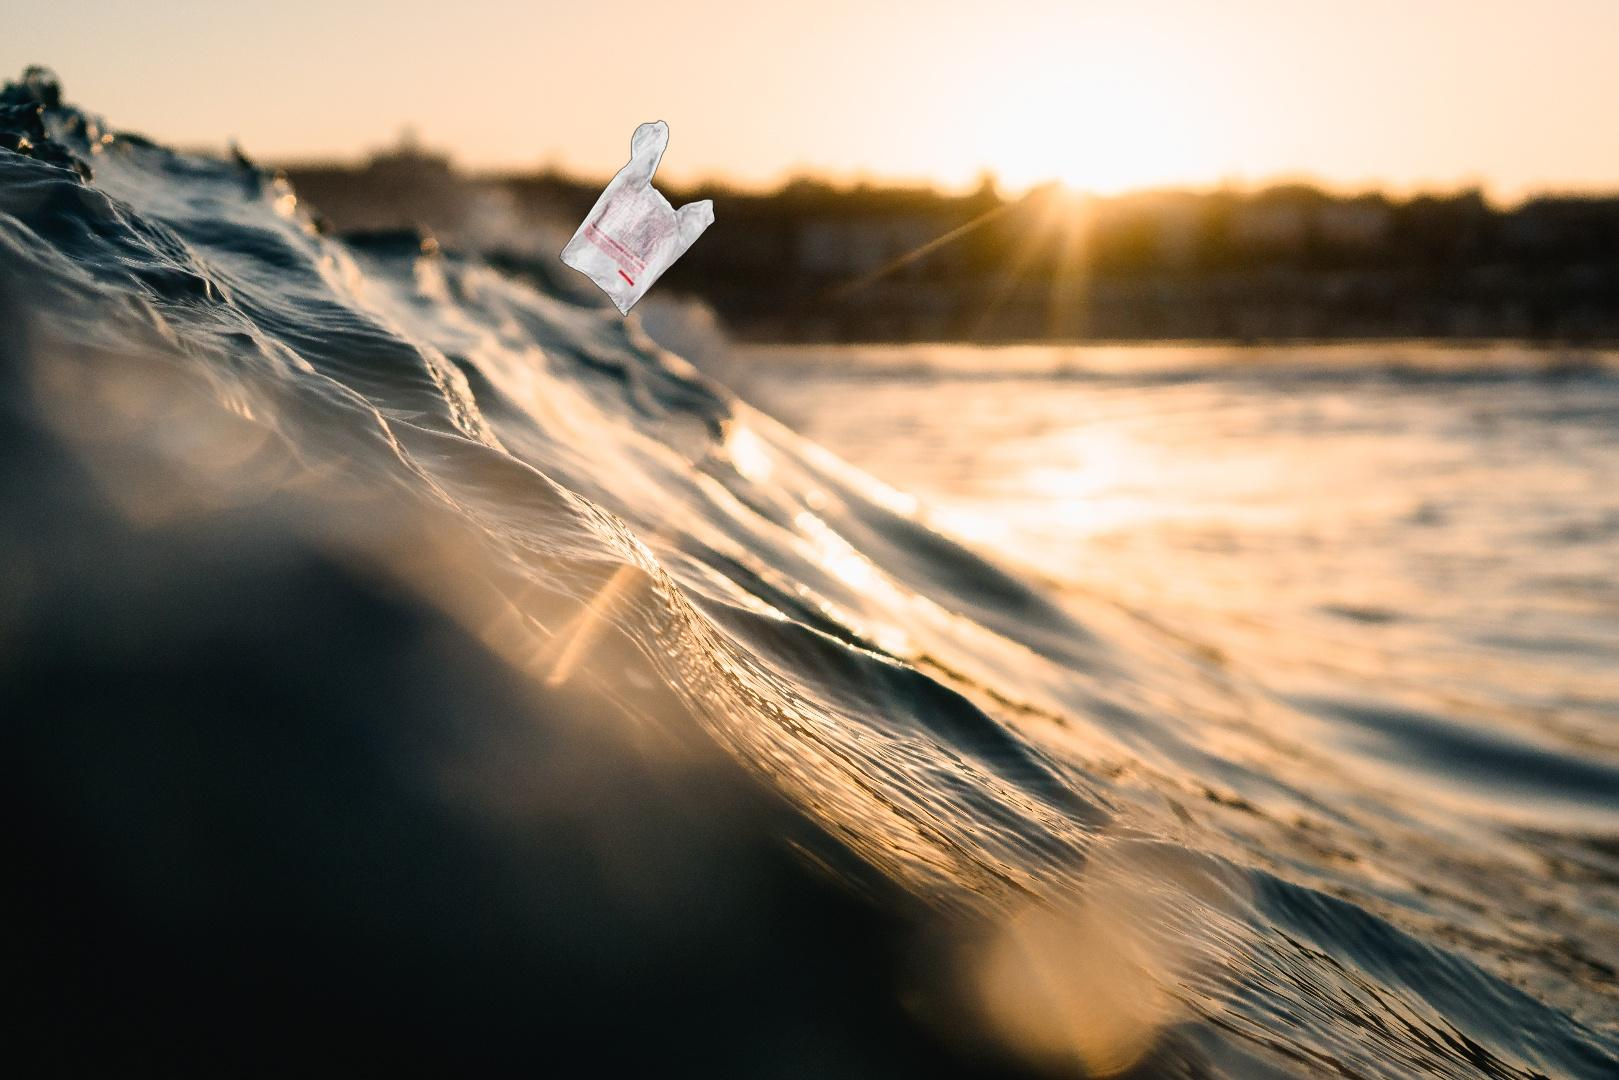plastic-bag: (556, 119, 716, 319)
